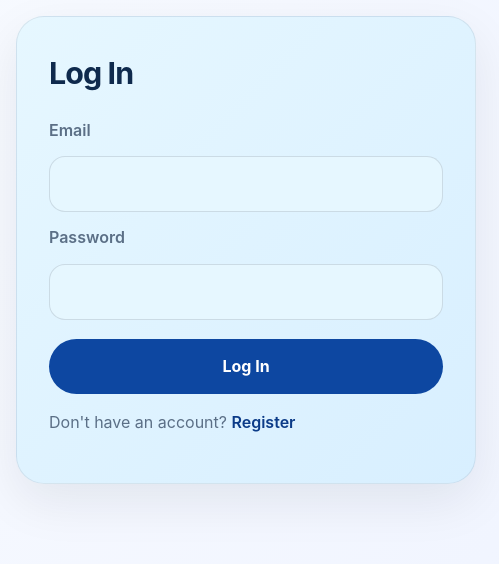
Test: LoginPage › shows an error message on invalid credentials
Step 1. Type "wrong@example.com" into the field labelled "Email" → (246, 184), box [49,156,443,212]
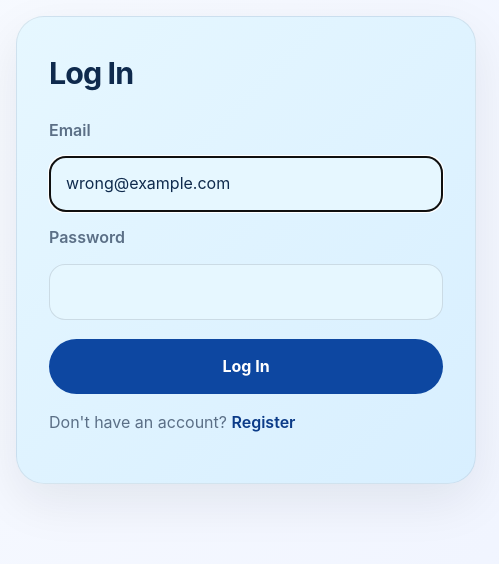
Step 2. Type "WrongPassword!" into the password field labelled "Password" → (246, 292), box [49,264,443,320]
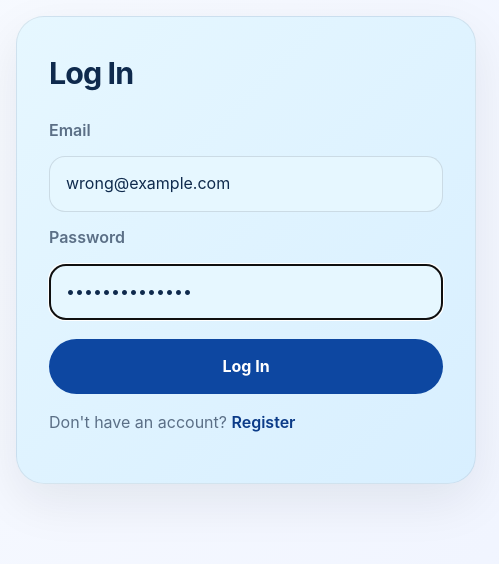
Step 3. Click the button "Log In" → (246, 366), box [49,339,443,394]
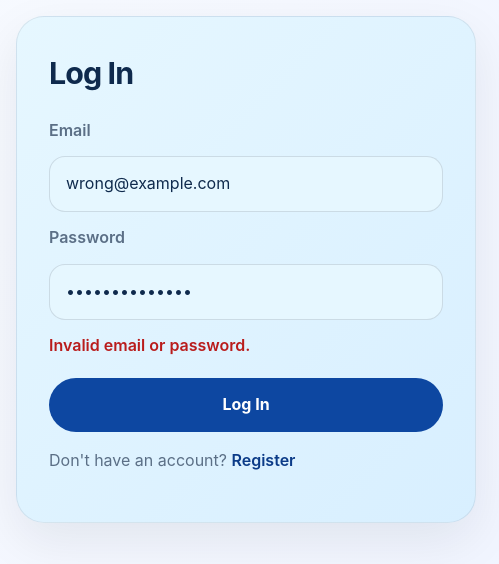
Expected: the message shows "Invalid email or password", [49,335,250,355]
